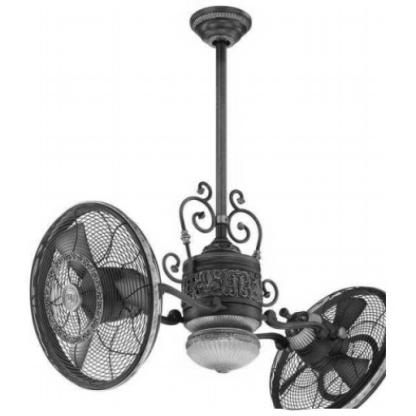ceiling-fan: (28, 6, 387, 410)
